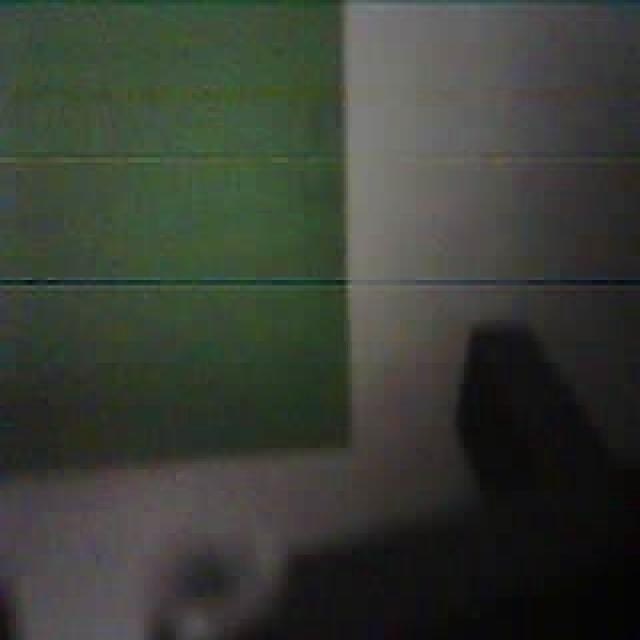green_box: (0, 1, 359, 468)
